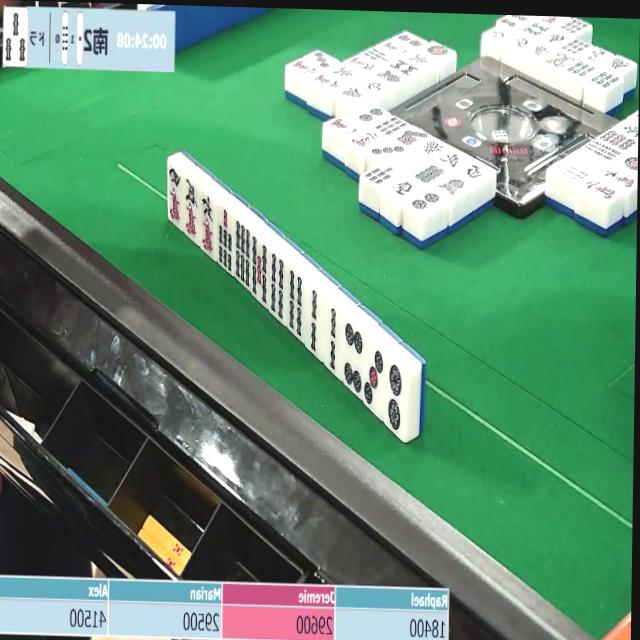m4: (167, 162, 183, 227)
m5: (180, 179, 198, 241)
m6: (198, 195, 217, 259)
s2: (322, 304, 343, 378), (302, 289, 323, 359)
s3: (3, 9, 27, 67)
s4: (282, 270, 307, 341), (265, 252, 288, 323)
s5: (249, 241, 272, 308)
s6: (231, 220, 254, 289)
s7: (213, 206, 233, 274)
t1: (424, 43, 452, 59)
t2: (382, 359, 405, 437)
t3: (362, 343, 386, 413)
t4: (339, 319, 366, 397)
t9: (371, 115, 407, 138)
